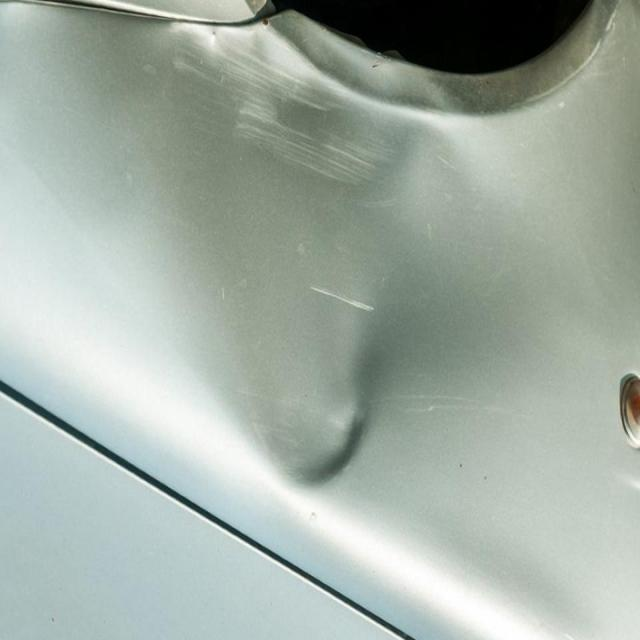dent: (236, 292, 420, 509)
